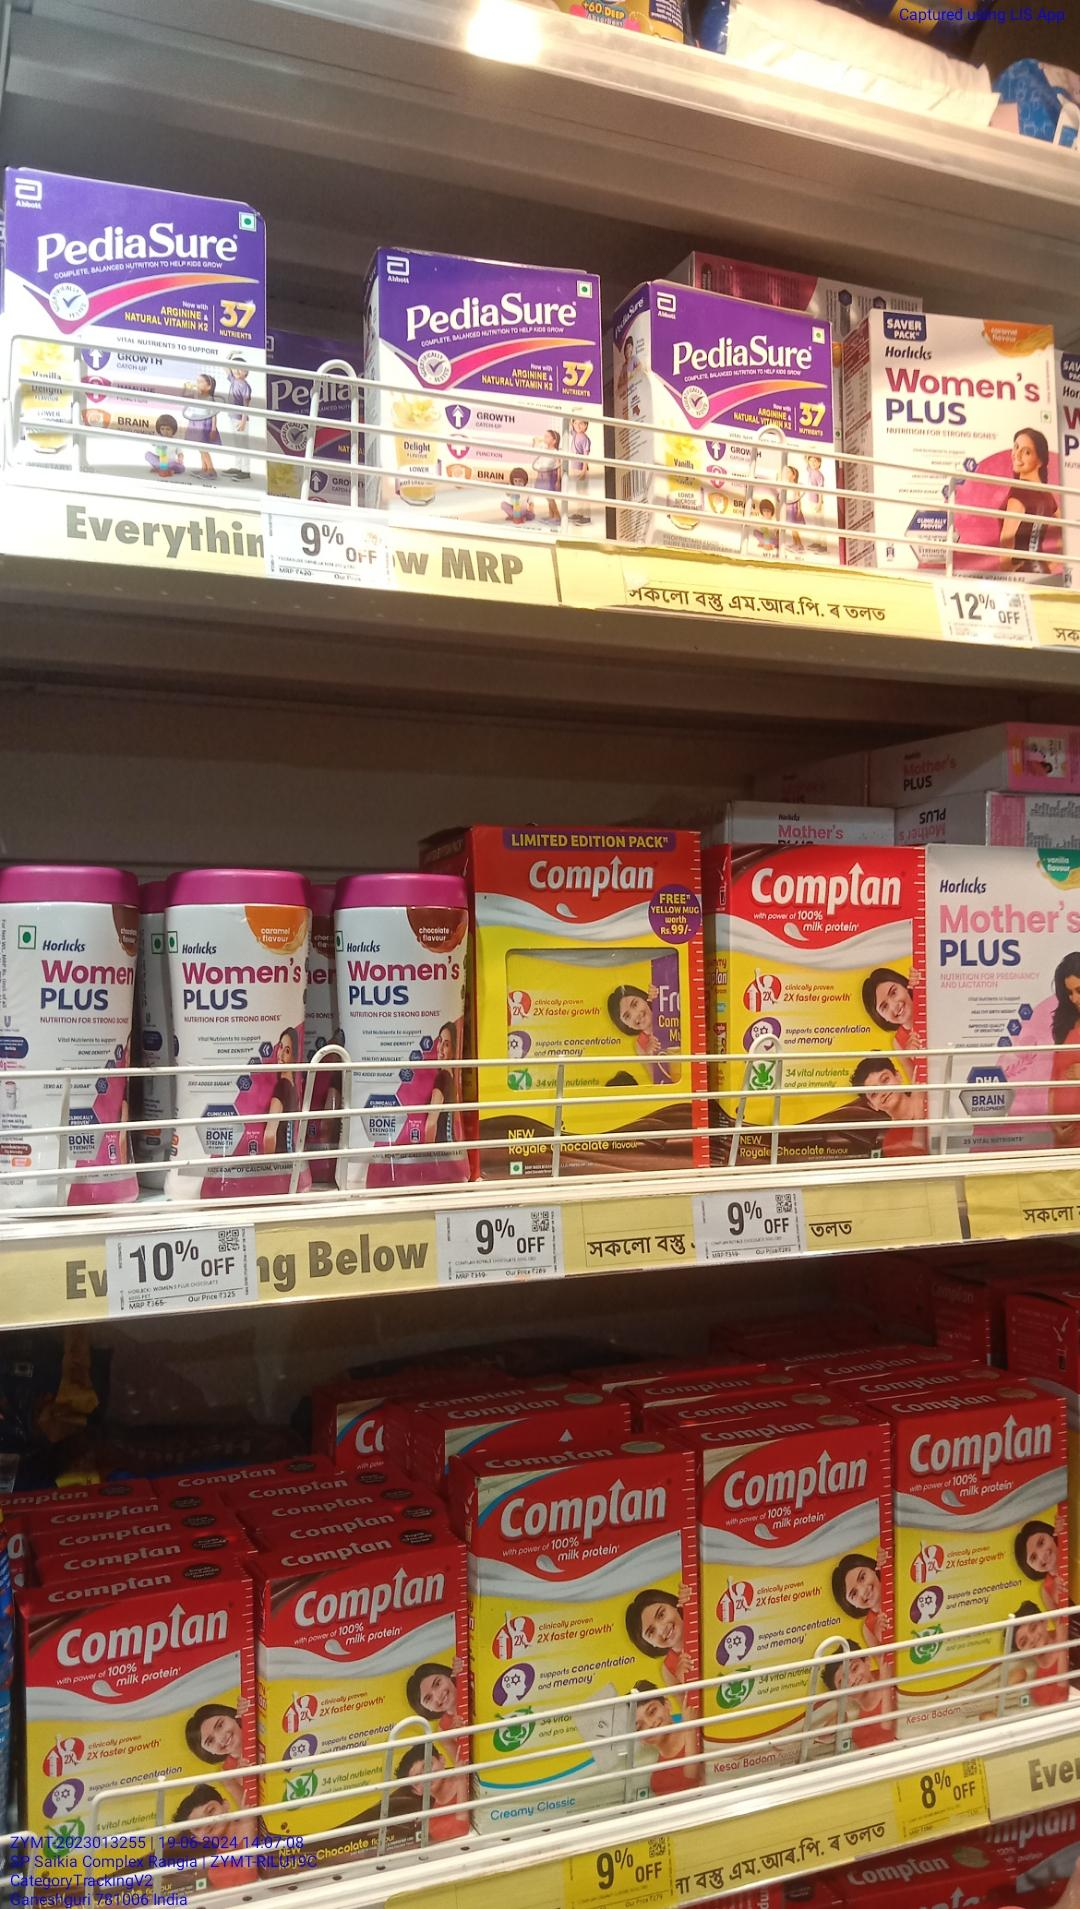COMPLAN_CHOCOLATE_200_GMS_PACK: (29, 1607, 246, 1909), (270, 1571, 467, 1874)
COMPLAN_CREAMY_CLASSIC_500_G_PACK: (478, 1465, 704, 1842)
